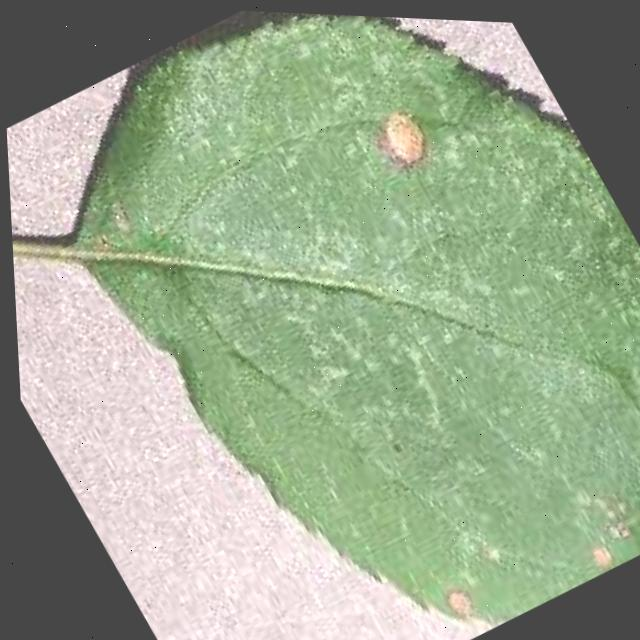black_rot: (350, 86, 450, 192), (428, 564, 495, 633), (573, 518, 629, 577), (637, 479, 640, 544)
